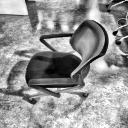chair_success: (22, 18, 112, 107)
